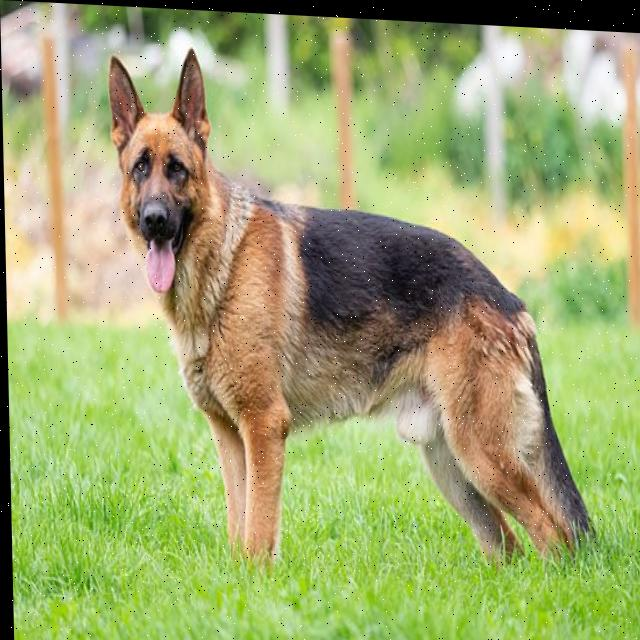GERMAN_SHEPHERD: (99, 34, 610, 581)
